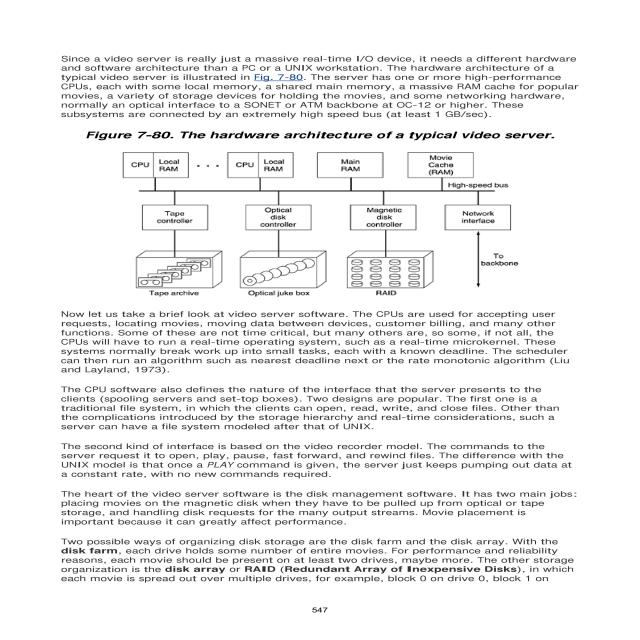diagram: (62, 121, 576, 304)
